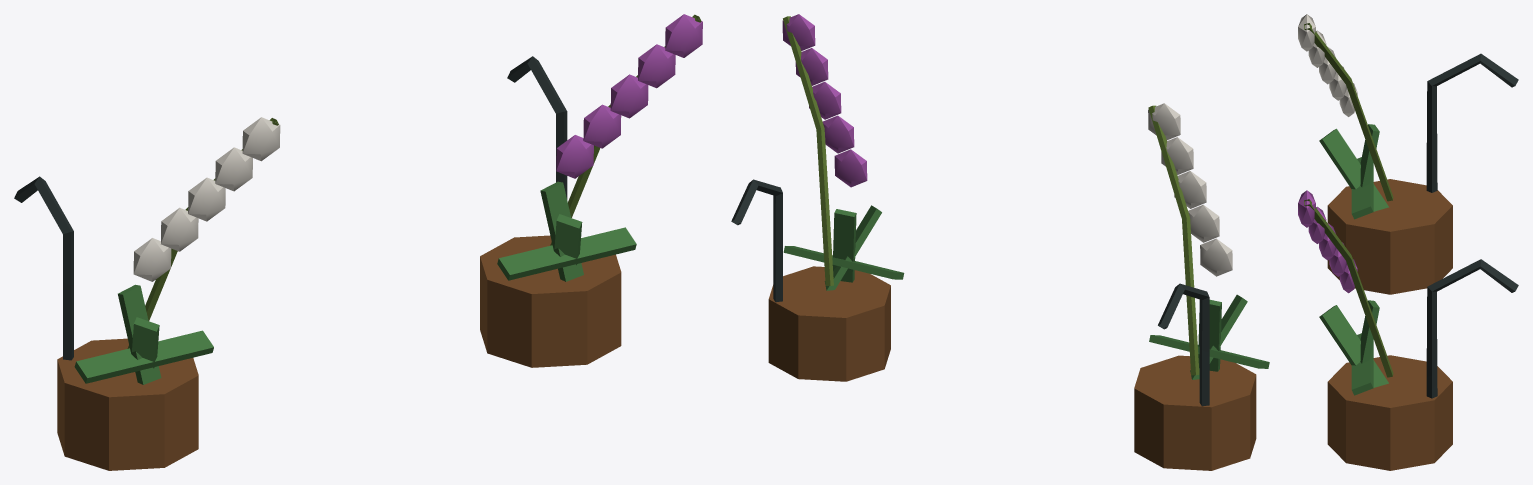
The model's file is chau_ban_cong__lan.glb.
3 views of the same model, side by side, from view 1: azimuth 30°, elevation 25°; view 2: azimuth 150°, elevation 25°; view 3: azimuth 270°, elevation 25° (orthographic). The views are drawn at different scales.
Parts seen in each view (by area): view 1: chau_ban_cong__lan; view 2: chau_ban_cong__lan; view 3: chau_ban_cong__lan.
Boxes of the visible parts, x1,y1,x2,y2 form: chau_ban_cong__lan: (14, 14, 702, 470); chau_ban_cong__lan: (731, 14, 1269, 470); chau_ban_cong__lan: (1298, 14, 1518, 470).
Size of the model in its own units: 0.8368 by 0.46 by 0.3178.
